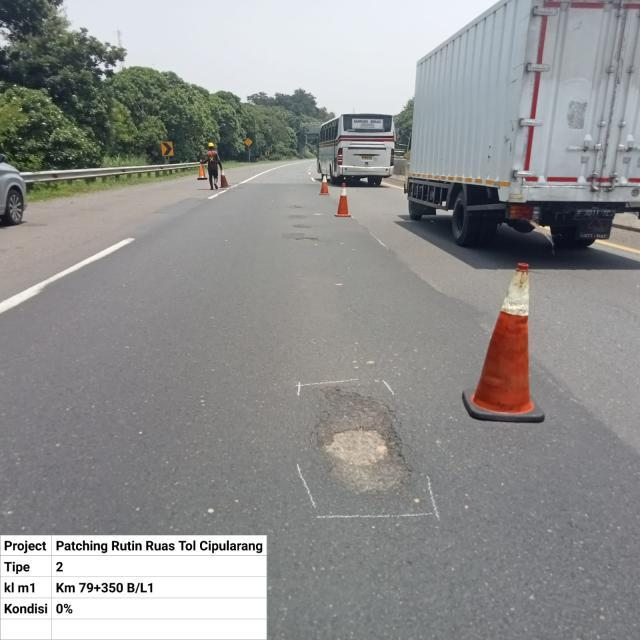Buraco: (306, 386, 418, 500), (293, 235, 320, 243)
